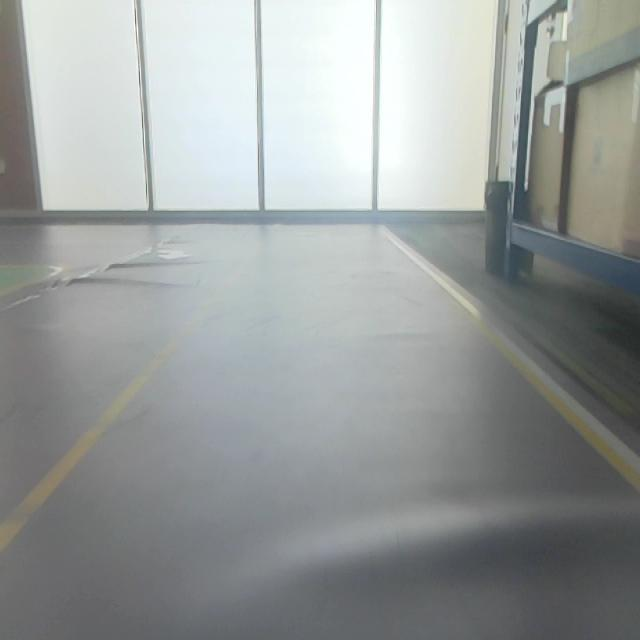left_lane: (1, 243, 260, 553)
right_lane: (380, 227, 640, 495)
